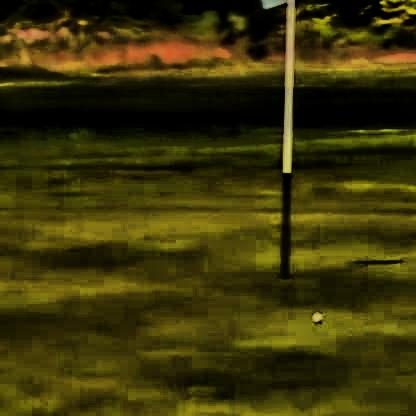golfball: (307, 309, 320, 320)
